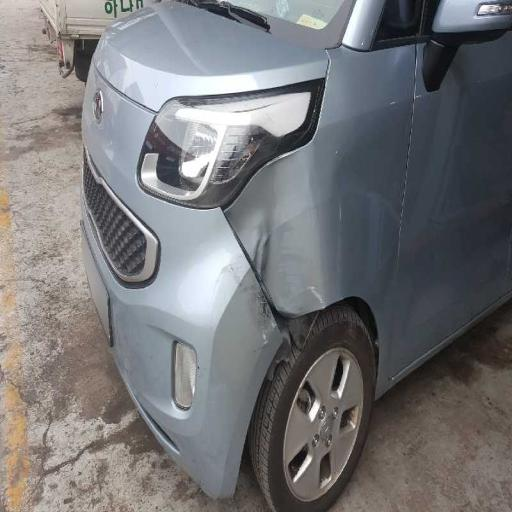dent: (192, 148, 349, 363)
